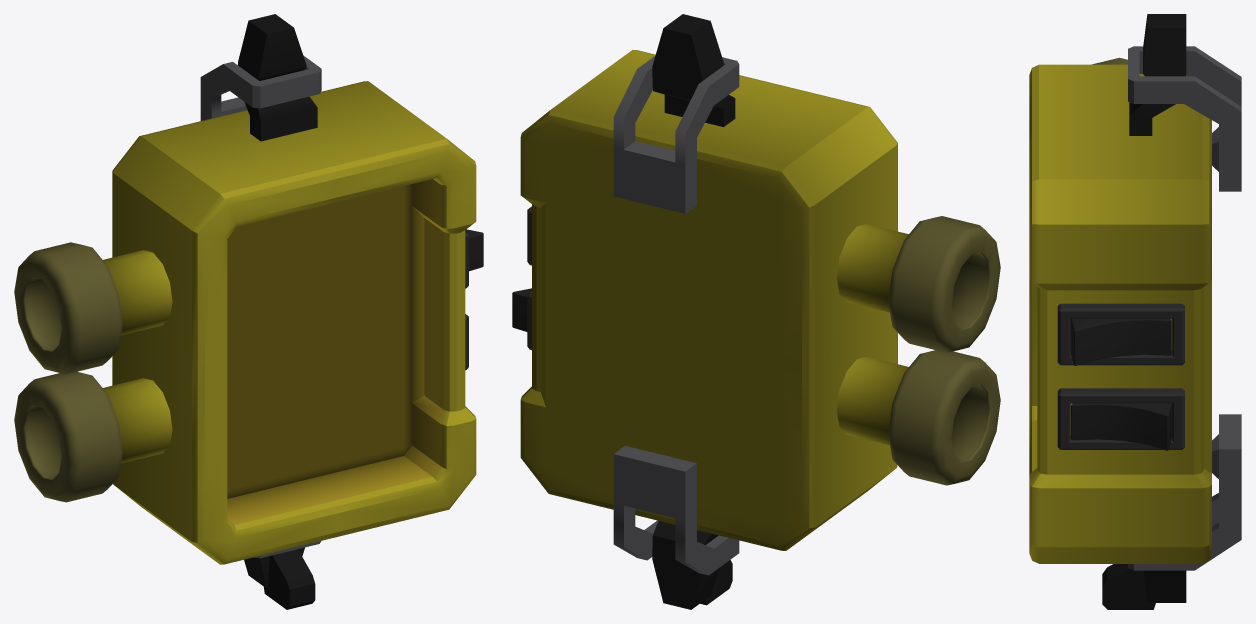
File: Procesor_Cooling_lvl_10_V04.fbx
The picture shows the model from 3 angles, left to right: view 1: azimuth 30°, elevation 25°; view 2: azimuth 150°, elevation 25°; view 3: azimuth 270°, elevation 25°; orthographic projection. The views are drawn at different scales.
Visible parts, largest first — view 1: Procesor_Cooling_lvl_10; view 2: Procesor_Cooling_lvl_10; view 3: Procesor_Cooling_lvl_10.
Boxes of the visible parts, left/top/right/bottom form: Procesor_Cooling_lvl_10: left=14, top=14, right=483, bottom=609; Procesor_Cooling_lvl_10: left=512, top=14, right=1000, bottom=609; Procesor_Cooling_lvl_10: left=1029, top=14, right=1241, bottom=609.
Bounding box in the file's own units: 36.59 × 46.77 × 15.47.
